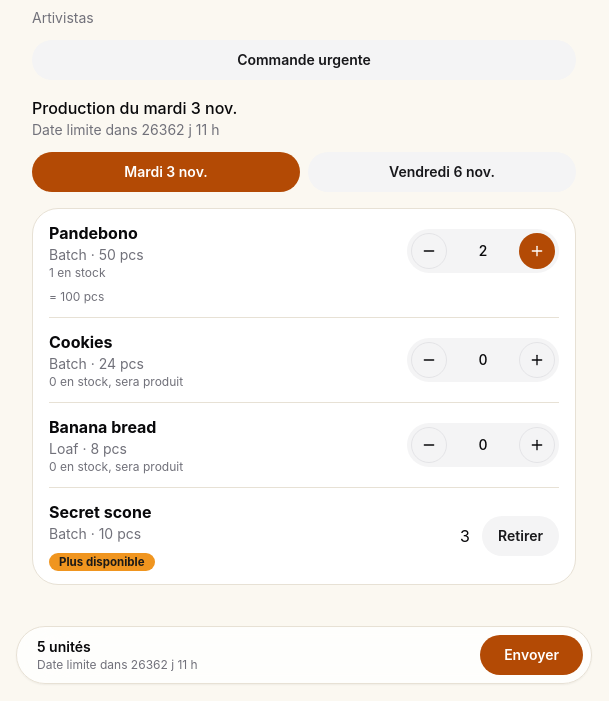
it: CafeHome › shows an existing line of a hidden product so it can be removed, and counts it
Check: the text "Secret scone" is shown, box top-left (49, 500), bottom-right (154, 524)
Check: the text "Plus disponible" is shown, box top-left (49, 553), bottom-right (154, 571)
Click the button named "Retirer Secret scone". click: click(521, 536)
box: top-left (482, 516), bottom-right (559, 556)
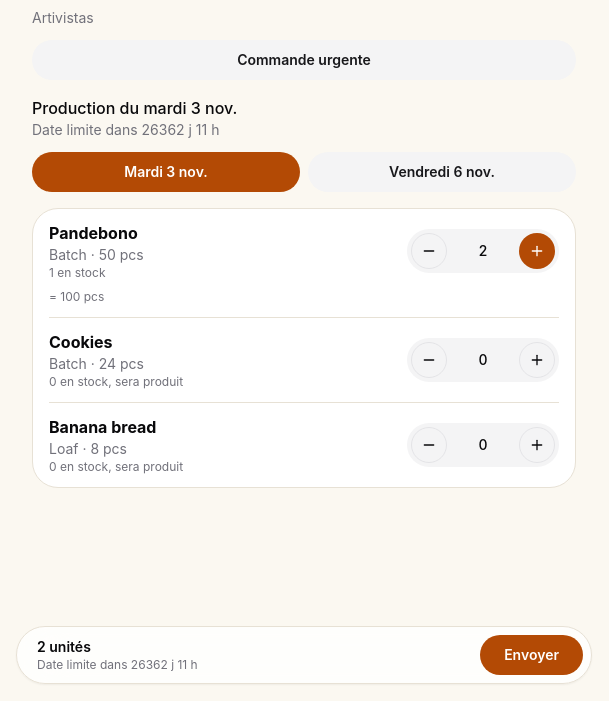
Check: the text "2 unités" is shown, box top-left (37, 638), bottom-right (91, 655)
